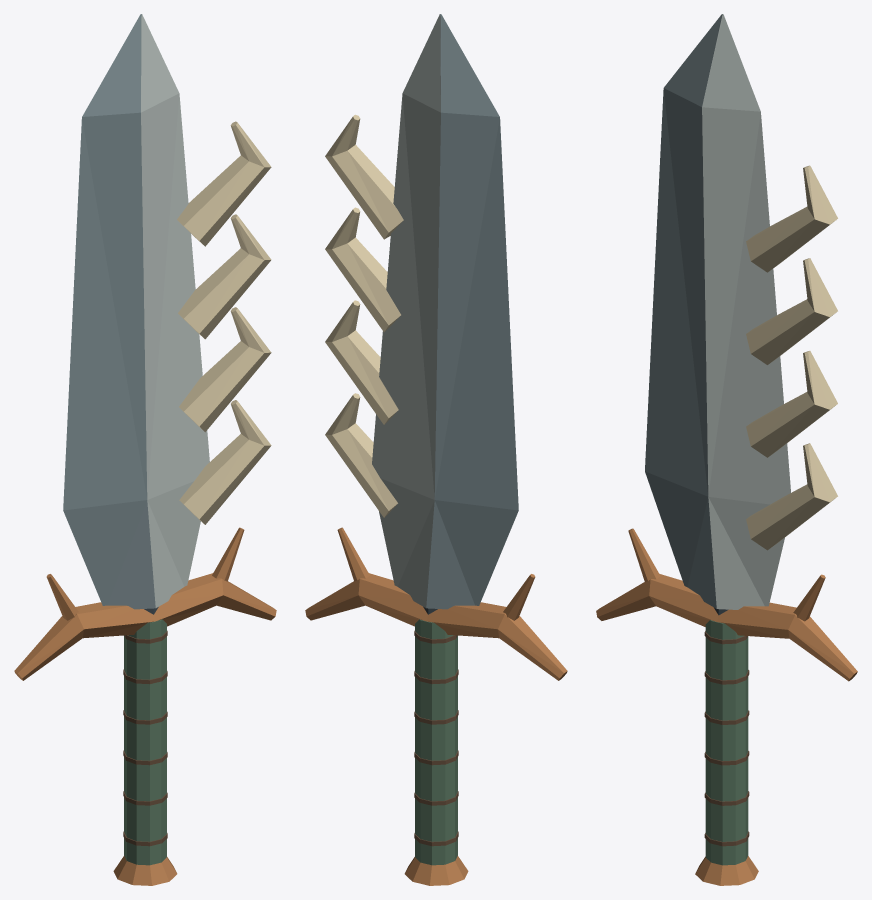
File: AEW_Greatsword_DragonRib.fbx
The picture shows the model from 3 angles, left to right: view 1: azimuth 30°, elevation 25°; view 2: azimuth 150°, elevation 25°; view 3: azimuth 330°, elevation 25°; orthographic projection.
Visible parts, largest first — view 1: AEW_Greatsword_DragonRib; view 2: AEW_Greatsword_DragonRib; view 3: AEW_Greatsword_DragonRib.
Part boxes in pixels (bbox=[...]): AEW_Greatsword_DragonRib: bbox=[14, 14, 276, 885]; AEW_Greatsword_DragonRib: bbox=[305, 14, 567, 885]; AEW_Greatsword_DragonRib: bbox=[596, 14, 857, 885].
Size of the model in its own units: 0.6132 by 1.95 by 0.1268.
